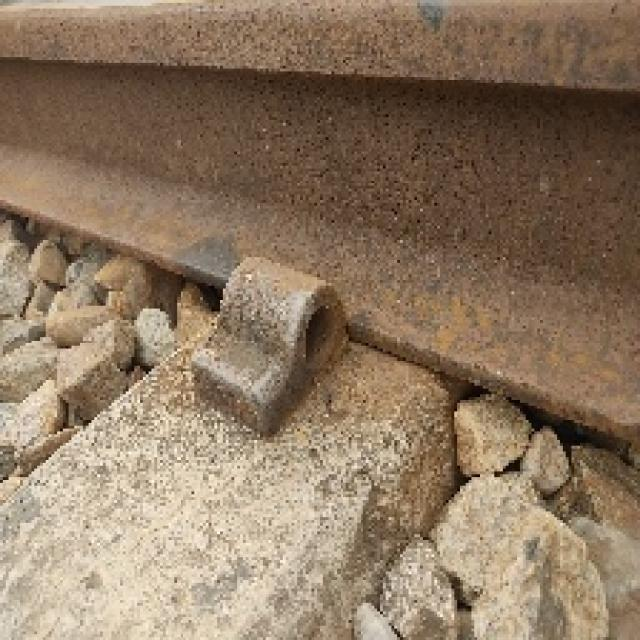Missing Fastener: (170, 243, 351, 455)
